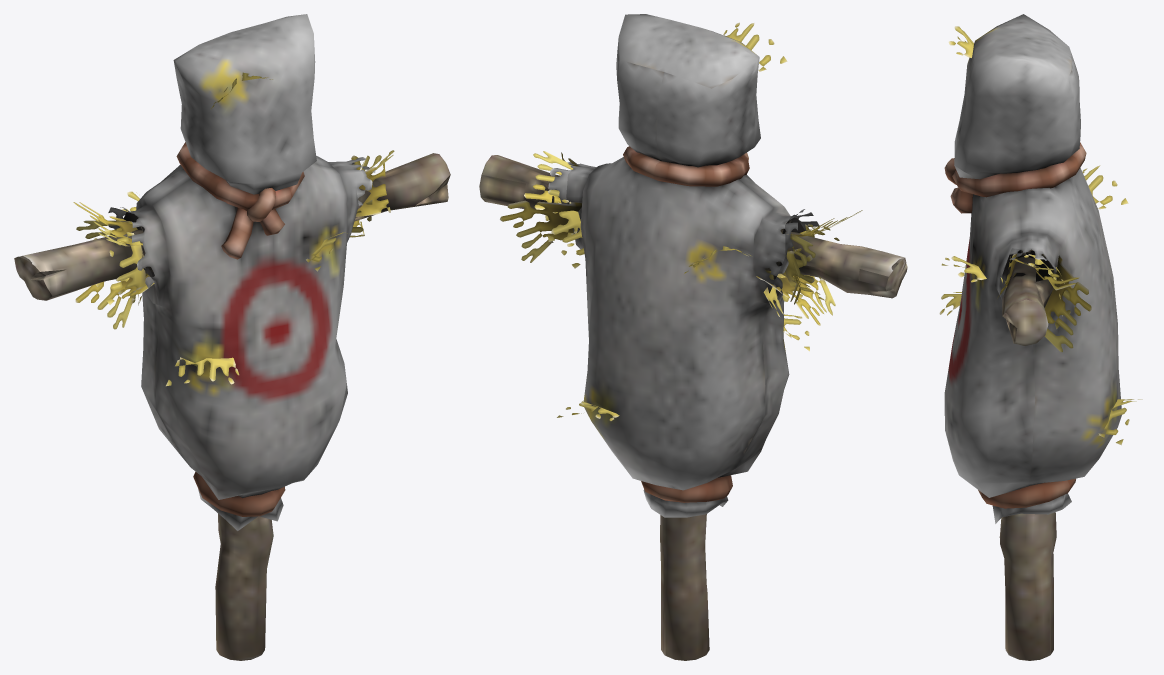
The model's file is Training Dummy Strawman.fbx.
The picture shows the model from 3 angles, left to right: view 1: azimuth 30°, elevation 25°; view 2: azimuth 150°, elevation 25°; view 3: azimuth 270°, elevation 25°; orthographic projection.
Visible parts, largest first — view 1: dummy; view 2: dummy; view 3: dummy.
Boxes of the visible parts, bbox=[...] form: dummy: bbox=[14, 14, 450, 660]; dummy: bbox=[479, 14, 907, 660]; dummy: bbox=[939, 14, 1142, 660].
Bounding box in the file's own units: 132 × 188 × 58.9.
2 materials, 2 textured.
